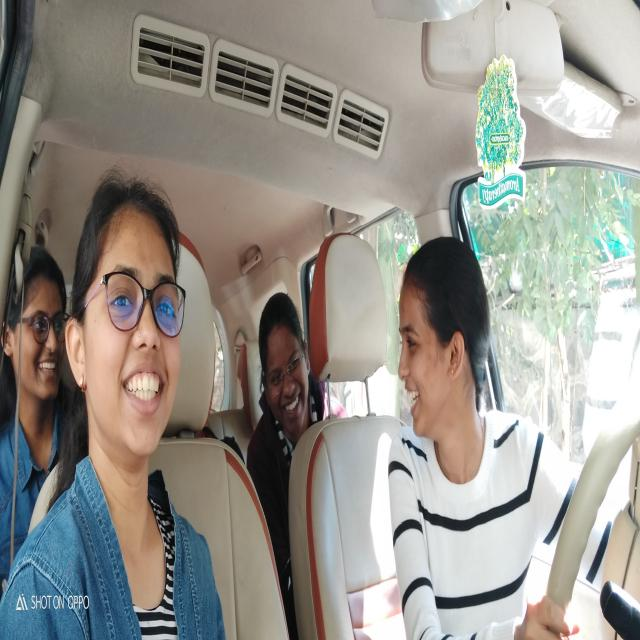LeftRight: (396, 230, 494, 442)
person: (64, 168, 188, 487), (3, 240, 66, 400), (258, 290, 314, 442)
talking: (121, 356, 167, 413), (403, 378, 421, 423)
